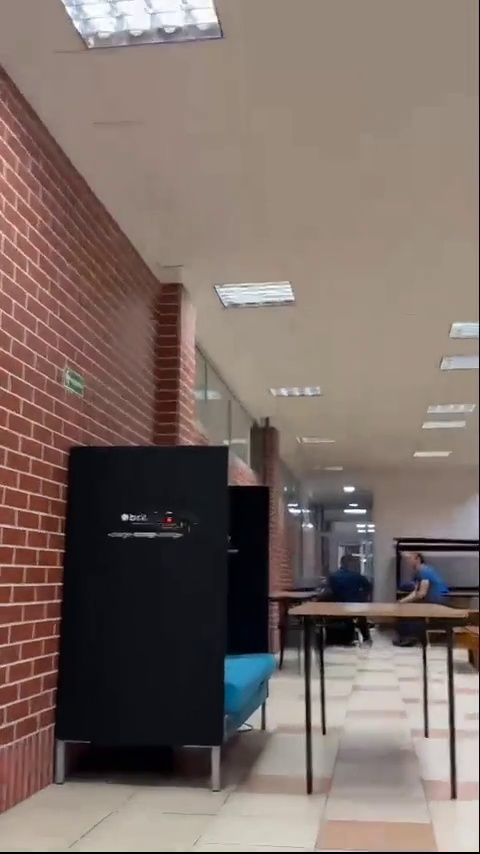drone: (160, 512, 195, 534)
no vest: (327, 555, 375, 599), (397, 553, 440, 600)
